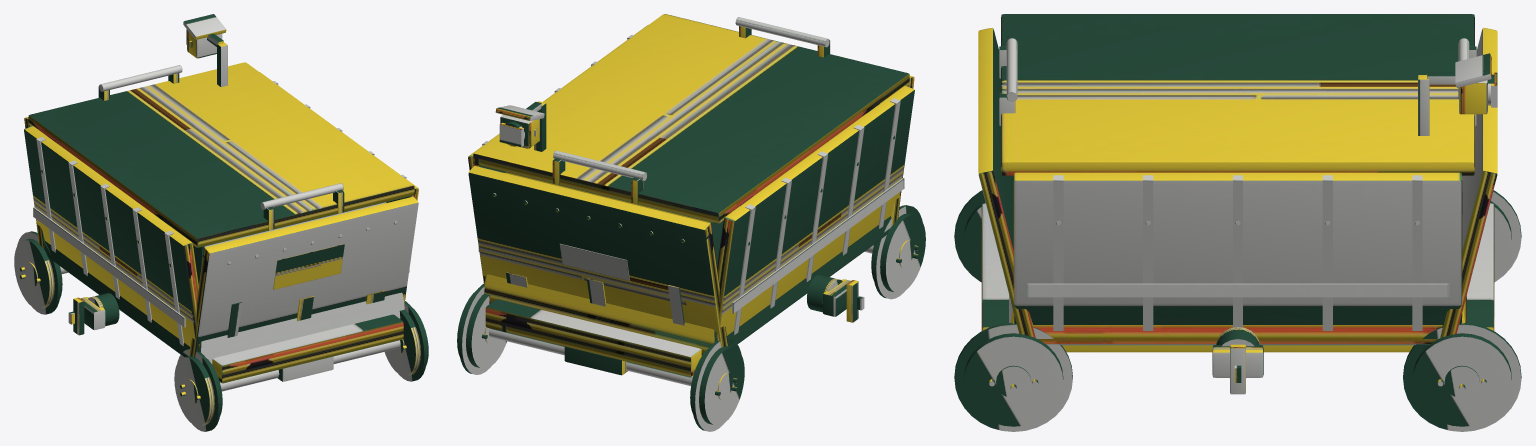
Rendered from PR_minecart.glb.
3 views of the same model, side by side, from view 1: azimuth 30°, elevation 25°; view 2: azimuth 150°, elevation 25°; view 3: azimuth 270°, elevation 25° (orthographic). The views are drawn at different scales.
Parts seen in each view (by area): view 1: PR_minecart; view 2: PR_minecart; view 3: PR_minecart.
Boxes of the visible parts, x1,y1,x2,y2 form: PR_minecart: (14,14,428,431); PR_minecart: (457,14,925,431); PR_minecart: (954,14,1521,431).
Size of the model in its own units: 1.53 by 1.18 by 1.77.
1 material, 1 textured.
